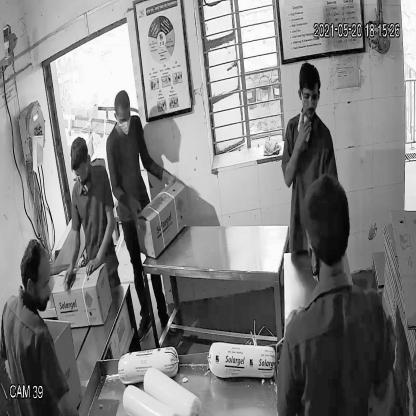goggles: (297, 86, 321, 108)
